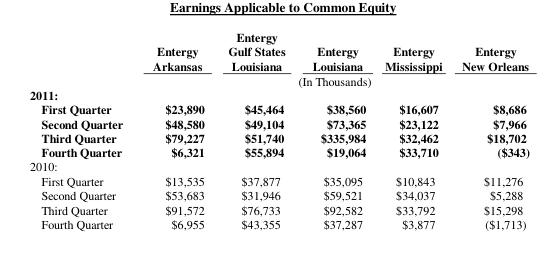table: (29, 28, 528, 231)
table column: (29, 28, 137, 231), (215, 28, 298, 231), (137, 28, 215, 231), (374, 28, 451, 231), (451, 28, 528, 231), (298, 28, 374, 231)
table column header: (29, 28, 528, 87)
table projected row header: (29, 87, 528, 101), (29, 158, 528, 172)
table row: (29, 28, 528, 72), (29, 72, 528, 87), (29, 101, 528, 116), (29, 172, 528, 187), (29, 201, 528, 216), (29, 216, 528, 231), (29, 87, 528, 101), (29, 116, 528, 130), (29, 130, 528, 144), (29, 144, 528, 158), (29, 158, 528, 172), (29, 187, 528, 201)
table spanning cell: (137, 72, 528, 87)
